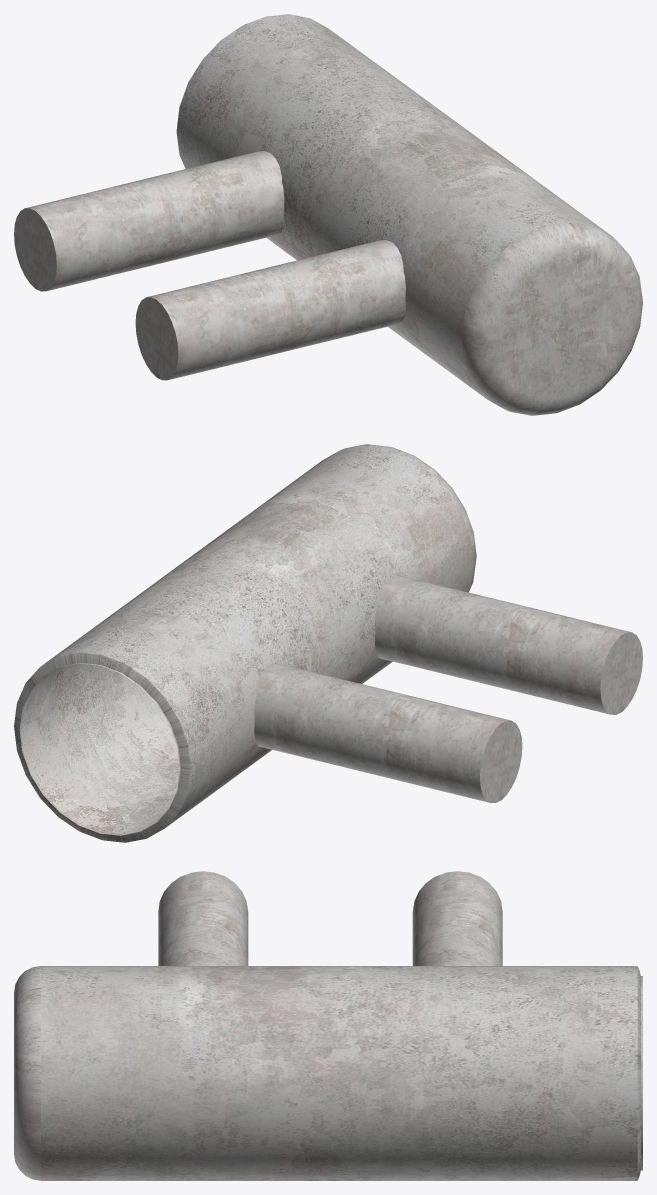
3 renders of one model, top to bottom at view 1: azimuth 30°, elevation 25°; view 2: azimuth 150°, elevation 25°; view 3: azimuth 270°, elevation 25°, orthographic. The views are drawn at different scales.
Size of the model in its own units: 0.2727 by 0.12 by 0.35.
Materials: 1 (1 with a texture image).
